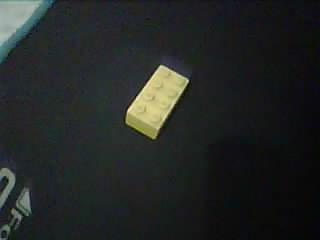lego: (123, 62, 190, 141)
